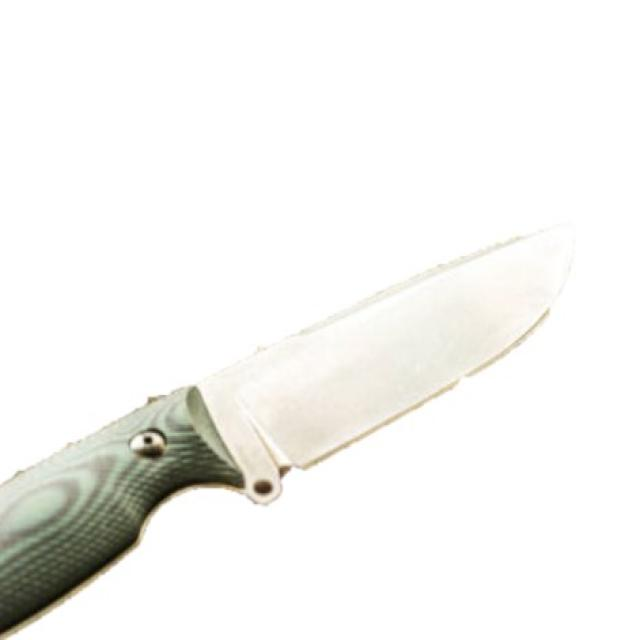knife: (2, 216, 587, 610)
